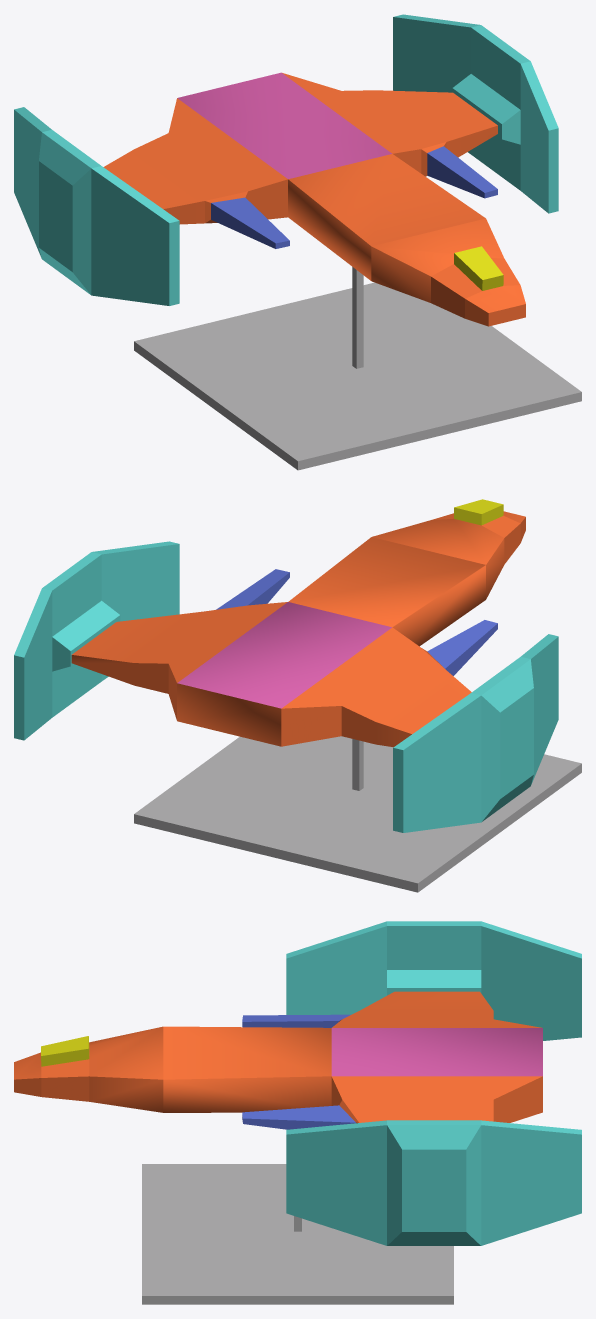
The model's file is Toy_Figurine_Spaceship.fbx.
3 views of the same model, one above another, from view 1: azimuth 30°, elevation 25°; view 2: azimuth 150°, elevation 25°; view 3: azimuth 270°, elevation 25° (orthographic). The views are drawn at different scales.
Parts seen in each view (by area): view 1: Spaceship_Figurine; view 2: Spaceship_Figurine; view 3: Spaceship_Figurine.
Boxes of the visible parts, left/top/right/bottom form: Spaceship_Figurine: left=14, top=14, right=581, bottom=470; Spaceship_Figurine: left=14, top=499, right=581, bottom=892; Spaceship_Figurine: left=14, top=921, right=581, bottom=1304.
Bounding box in the file's own units: 37.75 × 17.73 × 42.33.
